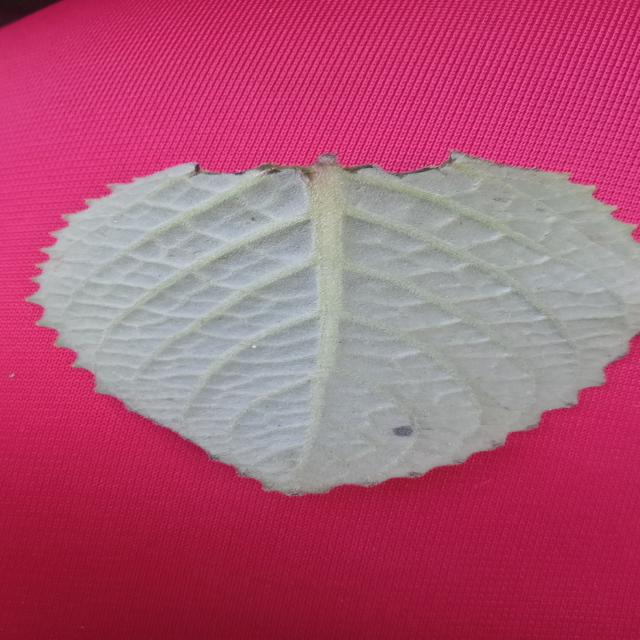Oregano: (21, 141, 640, 503)
